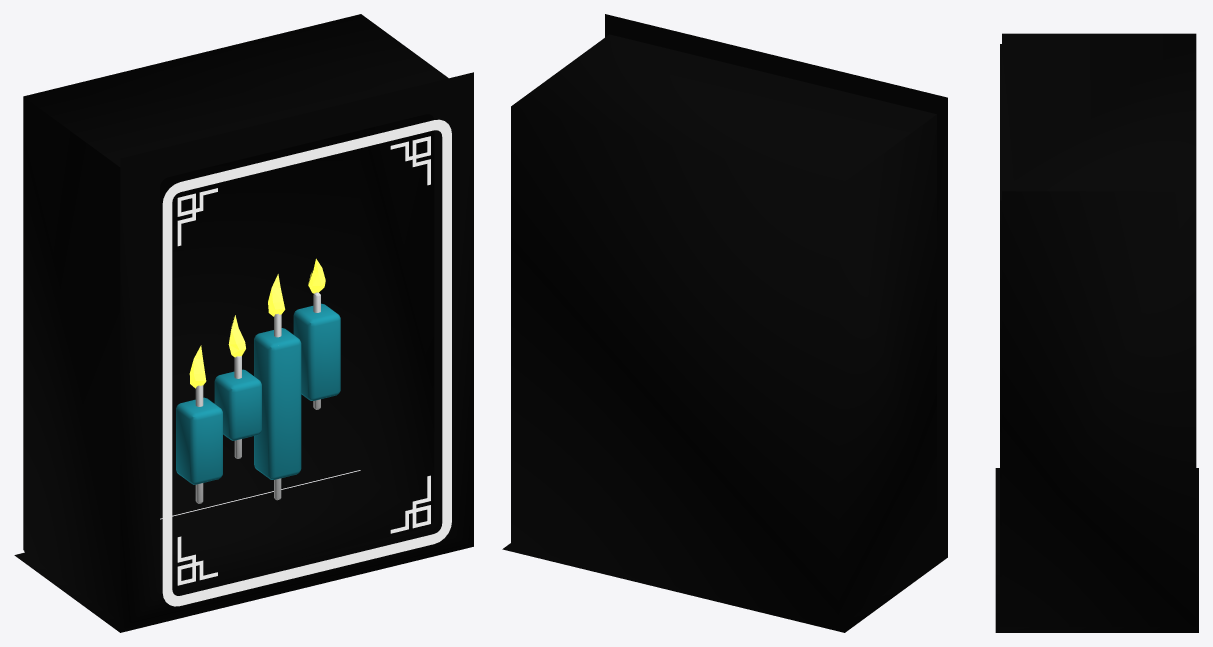
The model's file is tinyJapCanBox.glb.
3 views of the same model, side by side, from view 1: azimuth 30°, elevation 25°; view 2: azimuth 150°, elevation 25°; view 3: azimuth 270°, elevation 25° (orthographic). The views are drawn at different scales.
Parts seen in each view (by area): view 1: OuterBox, Box, CardBorder, XBase.002, XBase.003, XBase, XBase.001, Card_Details; view 2: OuterBox, Box; view 3: OuterBox, Box.
Part boxes in pixels (x1,y1,x2,y2): OuterBox: [14, 14, 473, 632]; Box: [24, 114, 434, 621]; CardBorder: [162, 119, 451, 606]; XBase.002: [254, 313, 301, 500]; XBase.003: [293, 292, 340, 409]; XBase: [176, 385, 222, 503]; XBase.001: [214, 356, 261, 458]; Card_Details: [177, 136, 430, 585]; OuterBox: [502, 14, 947, 632]; Box: [512, 546, 936, 627]; OuterBox: [995, 33, 1198, 632]; Box: [1000, 44, 1196, 626].
Bounding box in the file's own units: 3.91 × 5.01 × 2.23.
6 materials, 1 textured.
